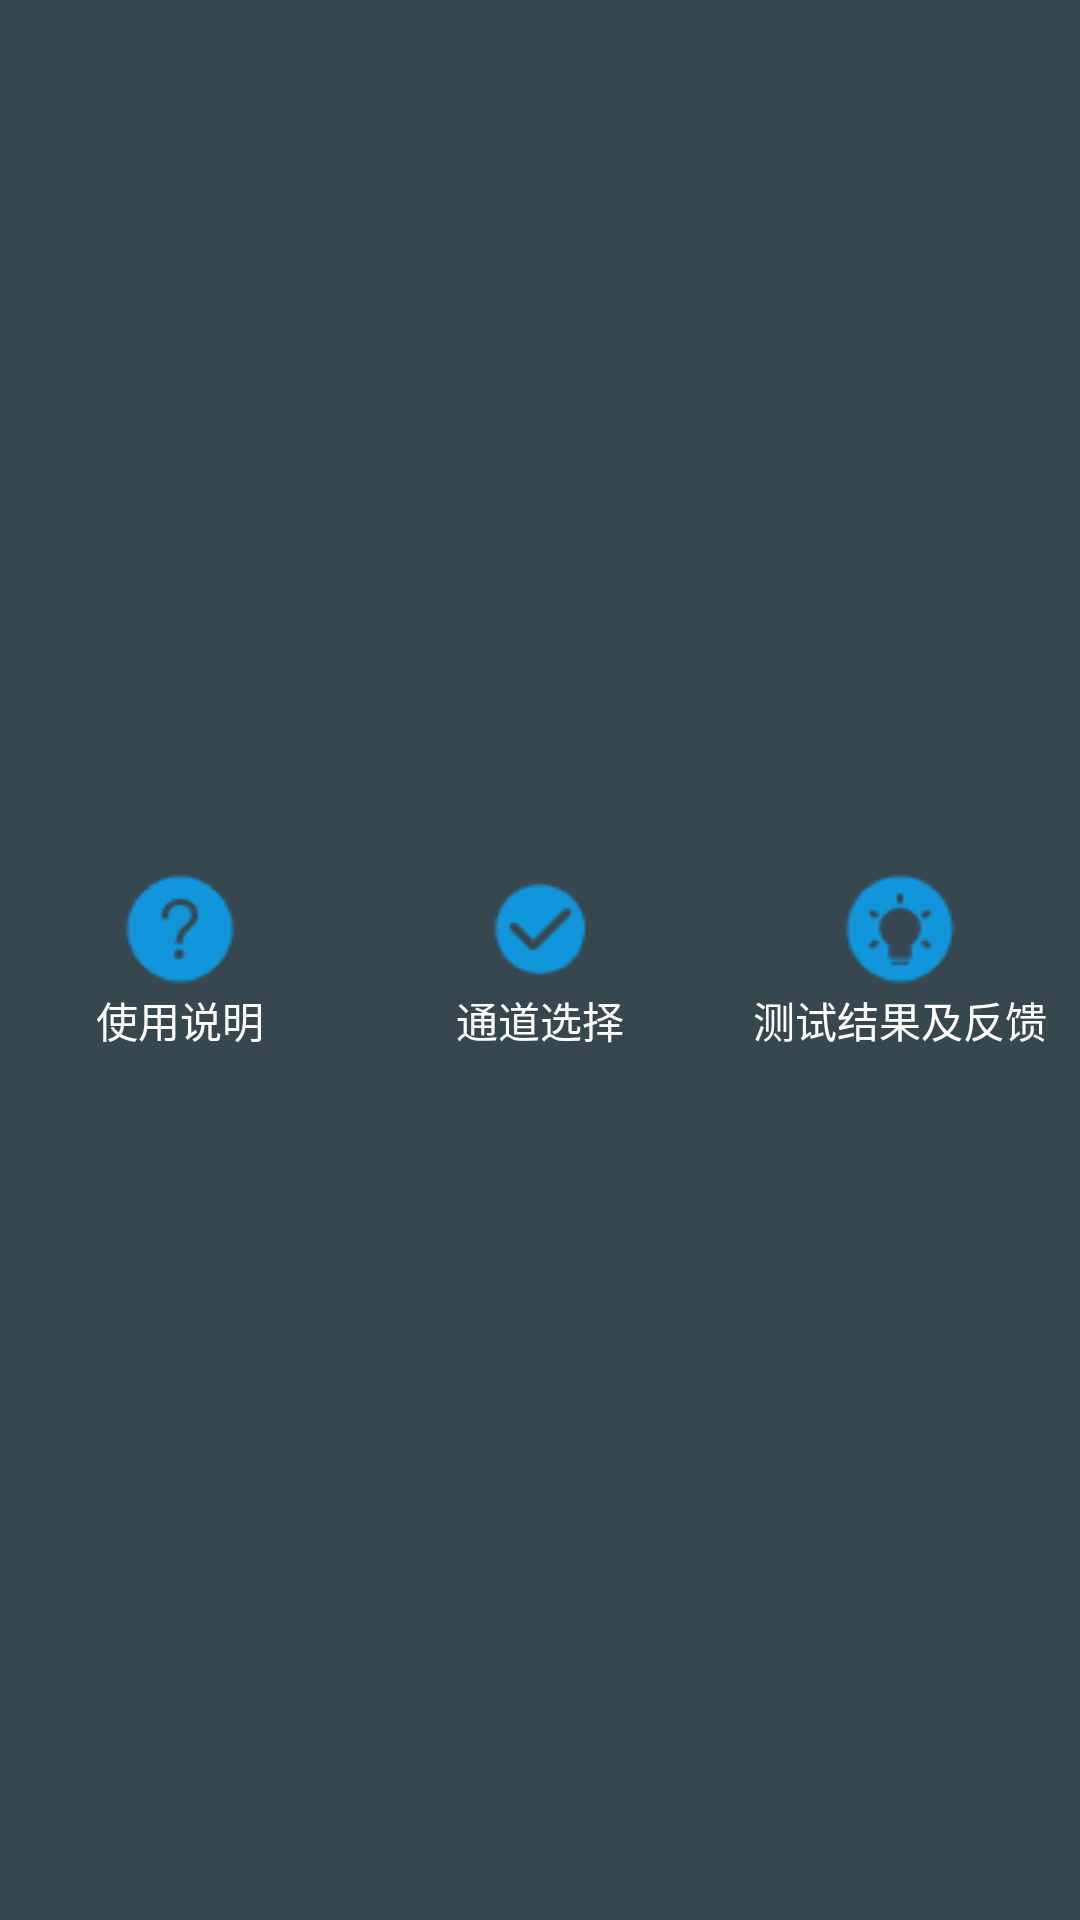

Named icons in this screenshot (1080*1920) and their centers, [x,y]:
knowpress: [180,929]
